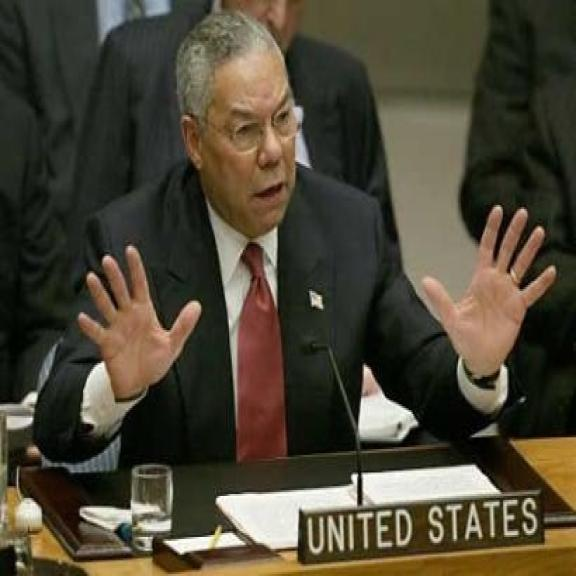face: (176, 20, 300, 242)
